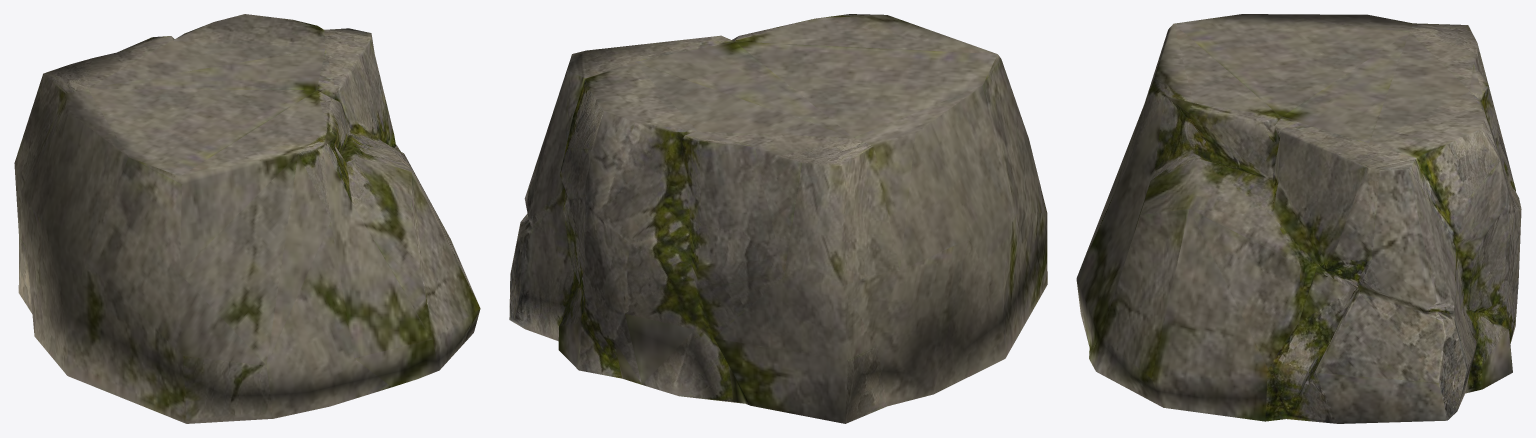
File: rock-boulder-02.glb
3 views of the same model, side by side, from view 1: azimuth 30°, elevation 25°; view 2: azimuth 150°, elevation 25°; view 3: azimuth 270°, elevation 25° (orthographic). The views are drawn at different scales.
Size of the model in its own units: 0.957 by 0.5493 by 0.9219.
Materials: 1 (1 with a texture image).
